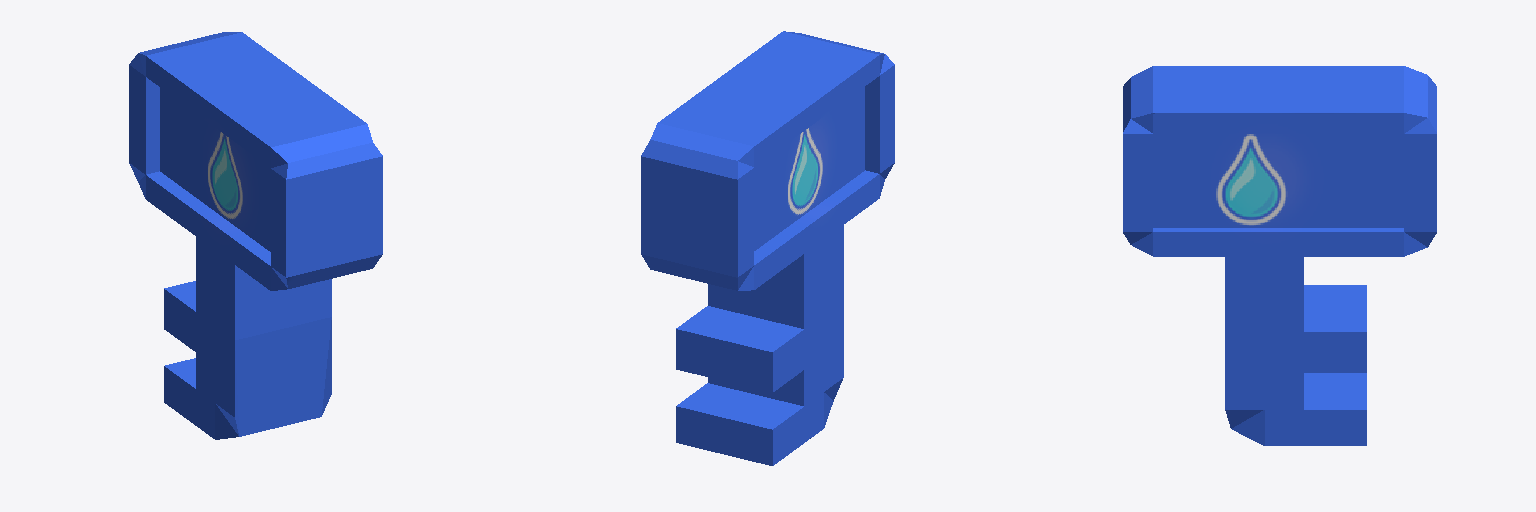
3 views of the same model, side by side, from view 1: azimuth 30°, elevation 25°; view 2: azimuth 150°, elevation 25°; view 3: azimuth 270°, elevation 25° (orthographic).
Parts seen in each view (by area): view 1: Cube; view 2: Cube; view 3: Cube.
Part boxes in pixels (x1,y1,x2,y2): Cube: (129, 32, 382, 439); Cube: (641, 31, 894, 465); Cube: (1123, 66, 1436, 445).
Size of the model in its own units: 0.6175 by 2.03 by 1.74.
Materials: 1 (1 with a texture image).